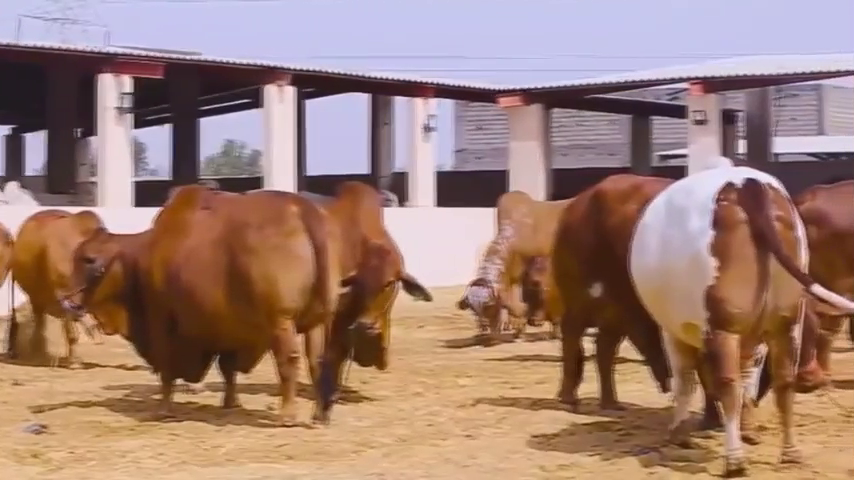bo: (57, 173, 346, 430), (632, 151, 816, 476), (537, 163, 661, 419), (306, 166, 433, 391), (451, 176, 560, 356), (13, 200, 114, 377), (779, 162, 854, 393), (508, 235, 566, 339)
